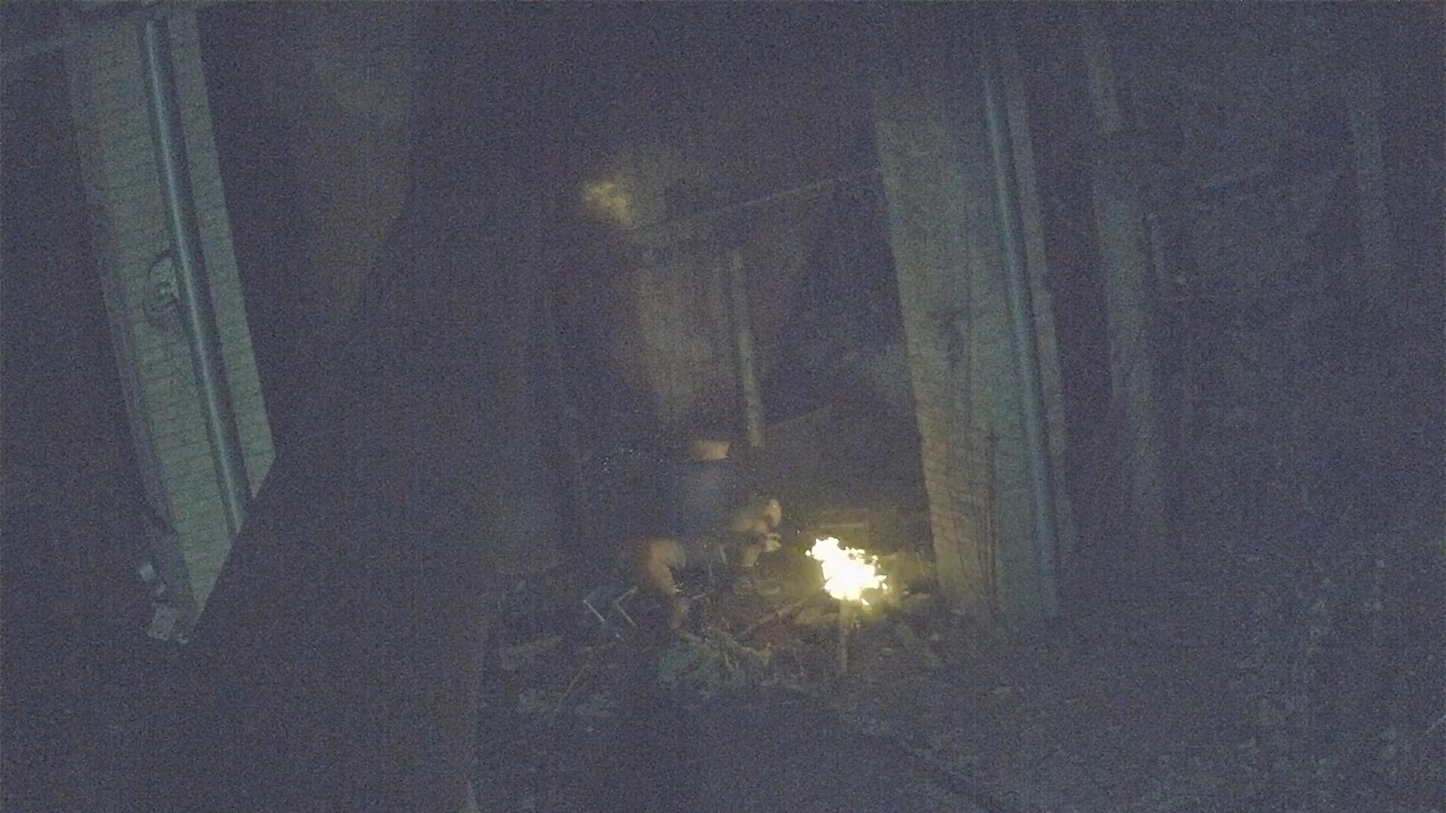fire: (807, 537, 886, 605)
